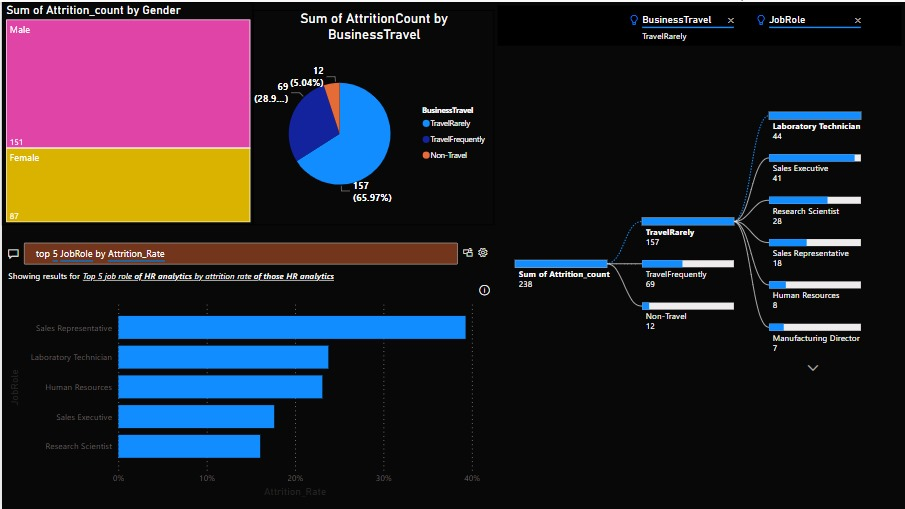

Layout of this report page (visuals, bound fields, positions):
{"tool":"powerbi","page":{"name":"HR Analytics(Page 2)","canvas":[1280,720],"ordinal":2},"visuals":[{"type":"treemap","fields":{"Details":["HR_Analytics.Gender"],"Values":["Sum(HR_Analytics.Attrition_count)"]},"box":[0,0,355.7,316.1],"z":0},{"type":"qnaVisual","box":[0,316.1,697.3,403.9],"z":1000},{"type":"pieChart","title":" Sum of AttritionCount by BusinessTravel","fields":{"Y":["Sum(HR_Analytics.Attrition_count)"],"Category":["HR_Analytics.BusinessTravel"]},"box":[355.7,11.3,341.6,304.7],"z":2000},{"type":"decompositionTreeVisual","fields":{"Analyze":["Sum(HR_Analytics.Attrition_count)"],"ExplainBy":["HR_Analytics.BusinessTravel","HR_Analytics.JobRole"]},"box":[697.3,0,582.5,720],"z":3000}]}

Visuals, with their boxes in screenshot pixels (x1, y1, x2, y2), scaled from the page's 1280x720 canvas onto the 905x509 screenshot:
treemap - HR_Analytics.Gender x Sum(HR_Analytics.Attrition_count): x1=0, y1=0, x2=251, y2=223
qnaVisual: x1=0, y1=223, x2=493, y2=508
" Sum of AttritionCount by BusinessTravel" pieChart: x1=251, y1=8, x2=493, y2=223
decompositionTreeVisual - Sum(HR_Analytics.Attrition_count) x HR_Analytics.BusinessTravel: x1=493, y1=0, x2=904, y2=508
